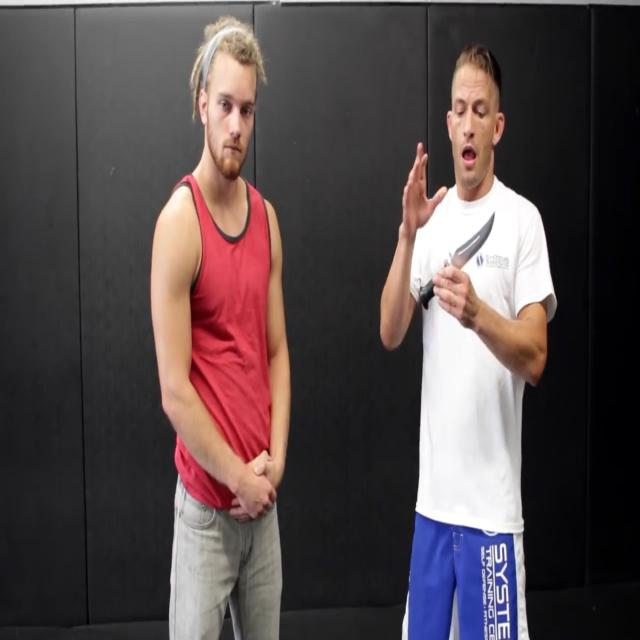knife: (420, 214, 502, 308)
